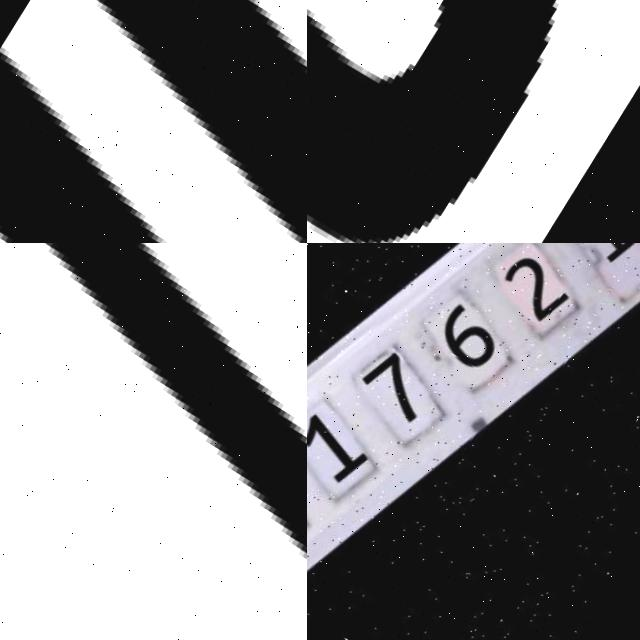1: (307, 384, 397, 510), (536, 243, 640, 290)
2: (465, 243, 595, 346)
6: (395, 277, 533, 401)
7: (325, 329, 465, 456)
L: (0, 243, 307, 640)
N: (0, 0, 307, 243)
U: (307, 0, 640, 243)
